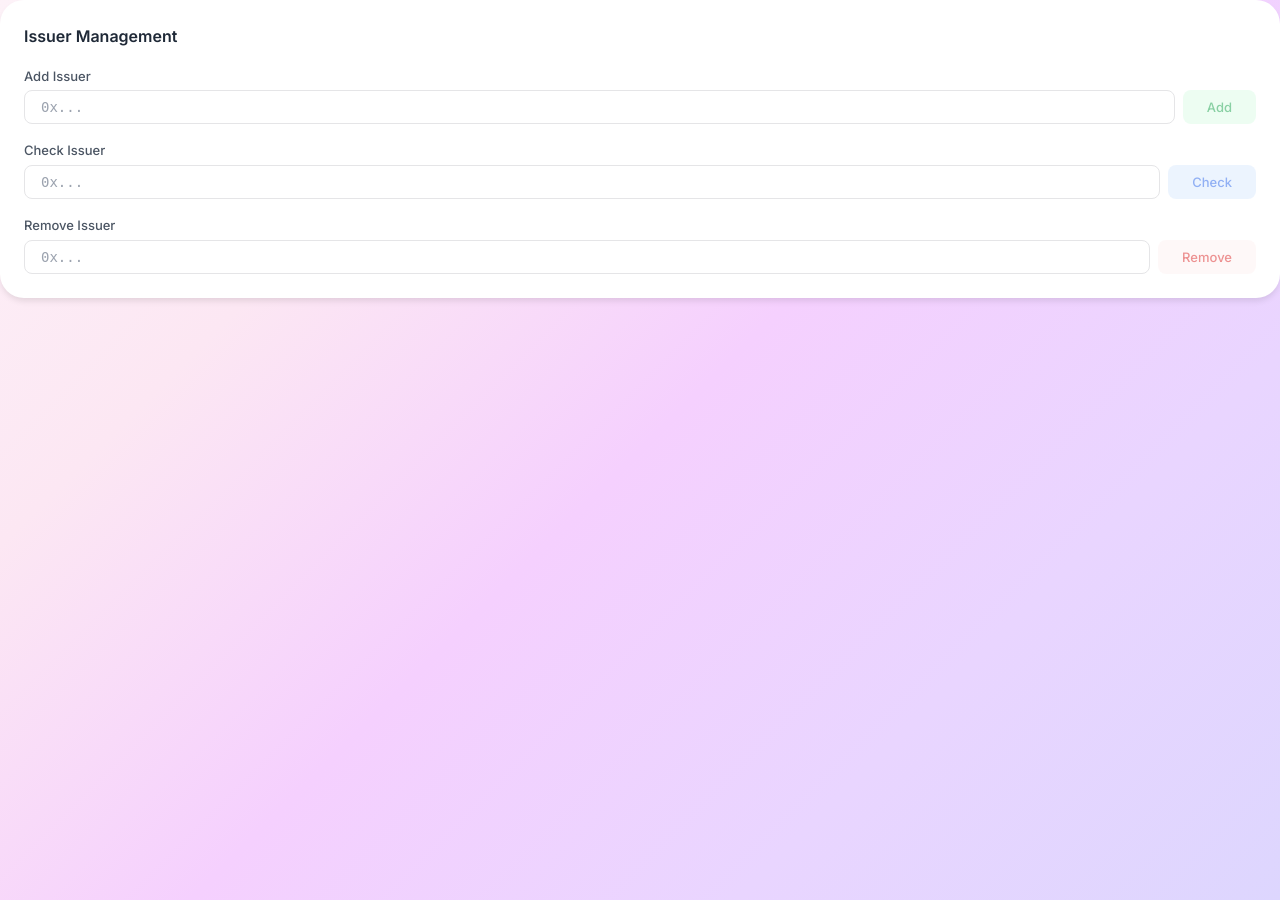
Test: IssuerManagement › Add Issuer › shows generic error message on other failures
Type "0x1234567890123456789012345678901234567890" into the field with placeholder "0x..." below "Add Issuer" at coordinates (599, 107), box x1=24 y1=90 x2=1175 y2=124
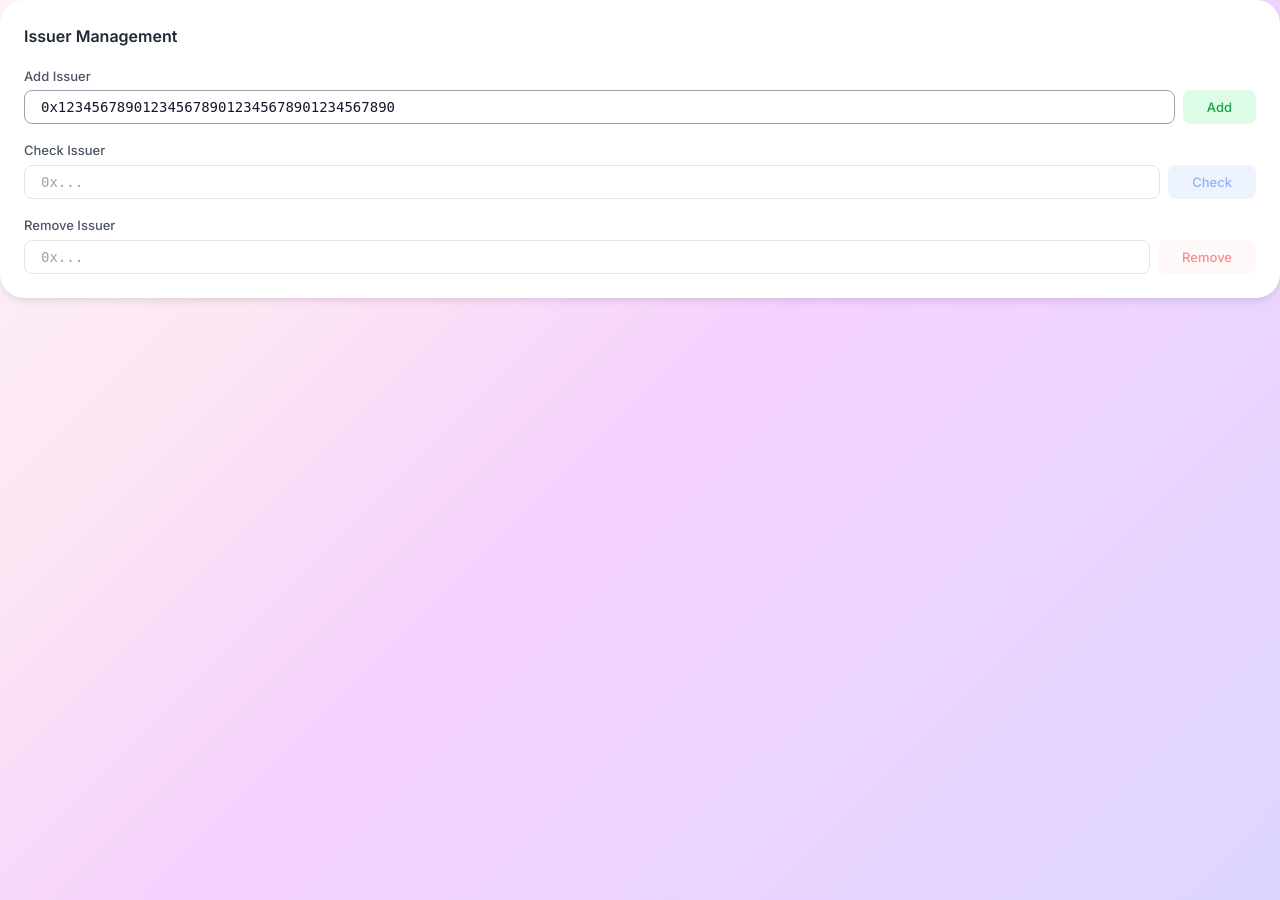
Click the button "Add" at coordinates (1219, 107), box x1=1183 y1=90 x2=1256 y2=124
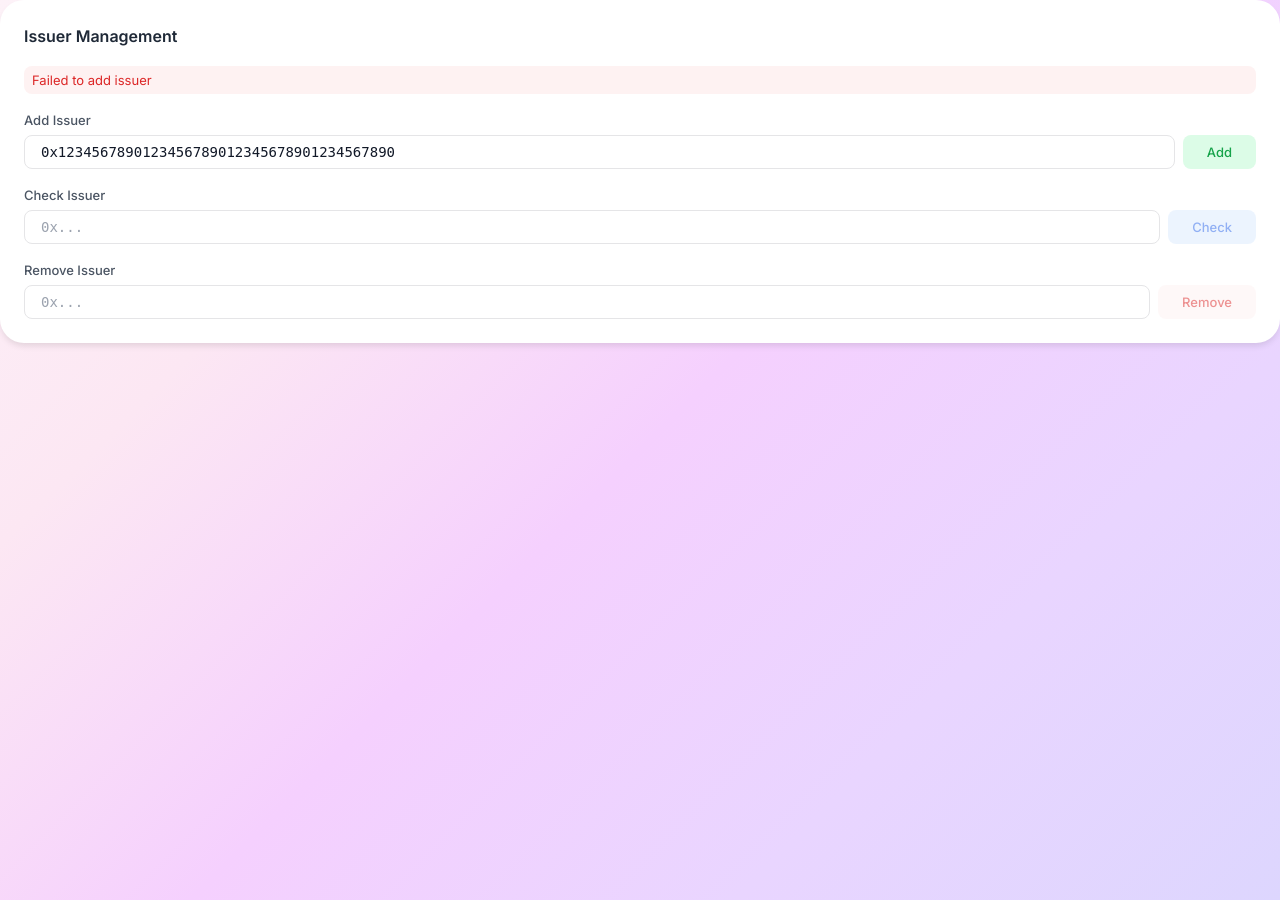
Check: the text "Failed to add issuer" is shown, box x1=24 y1=66 x2=1256 y2=94
